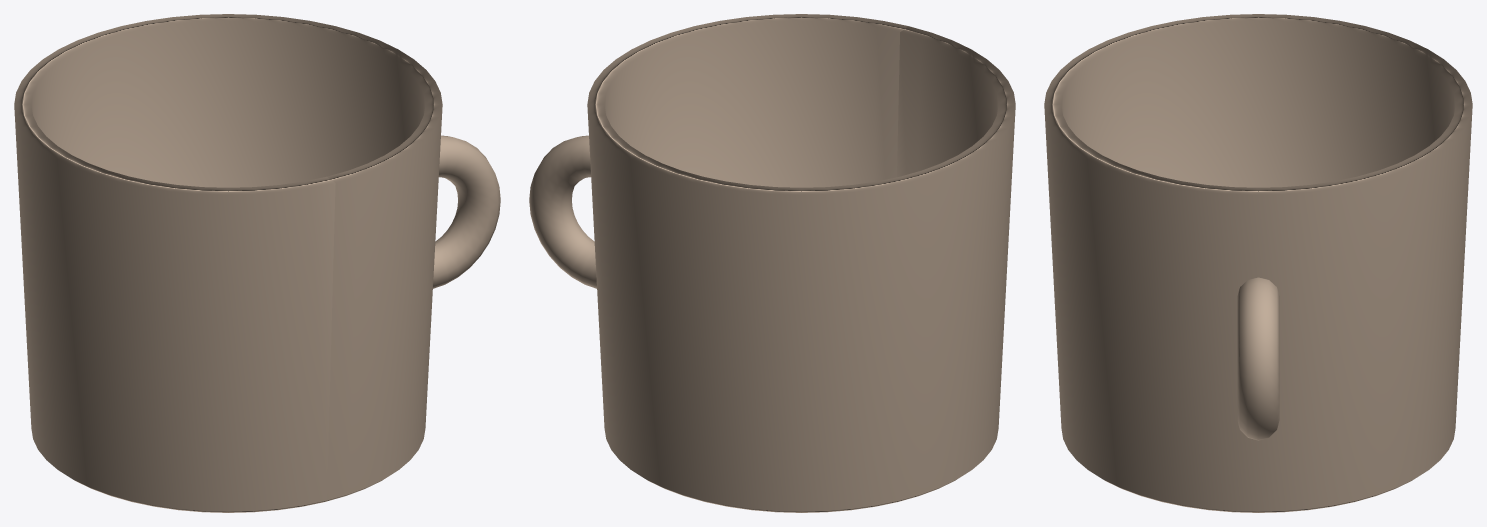
Rendered from CER-07.glb.
3 renders of one model, left to right at view 1: azimuth 30°, elevation 25°; view 2: azimuth 150°, elevation 25°; view 3: azimuth 270°, elevation 25°, orthographic.
Size of the model in its own units: 0.1165 by 0.08 by 0.095.
